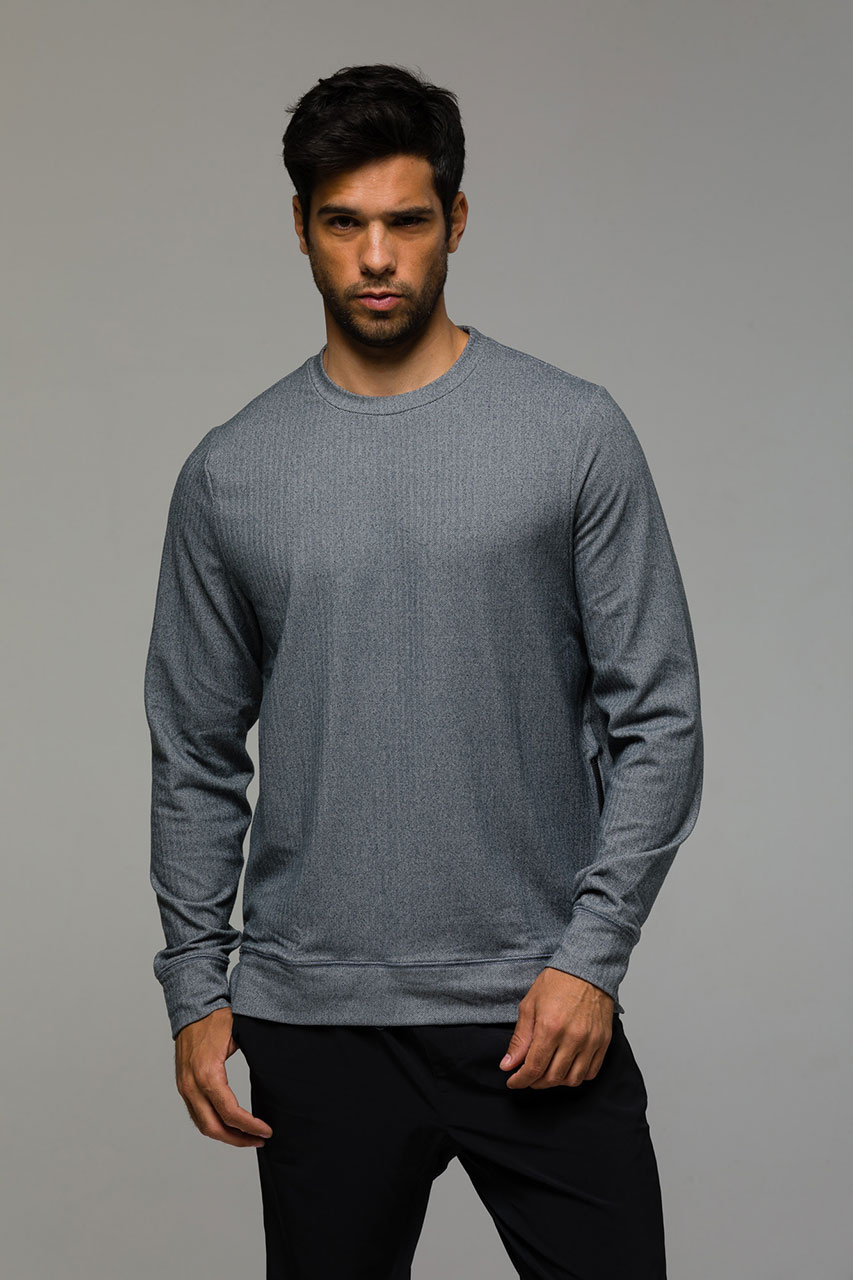NOTSAFE: (236, 58, 604, 1008)
